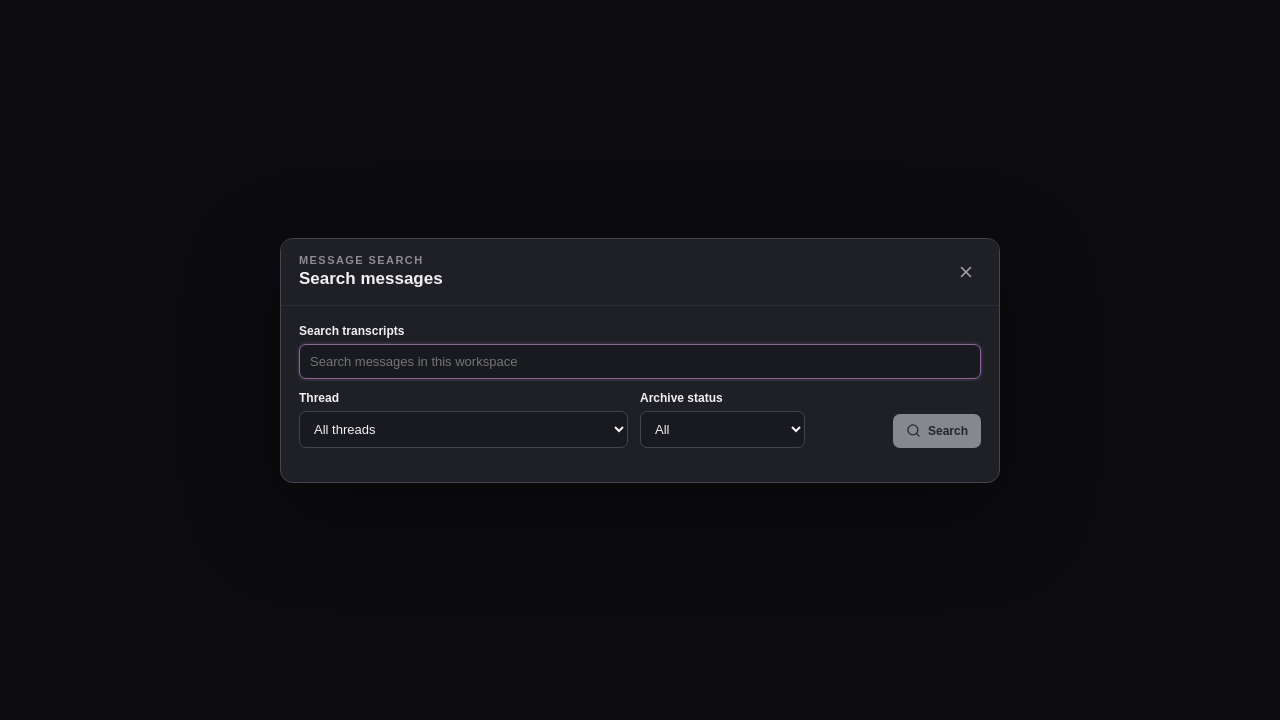
Test case: MessageSearchDialog › distinguishes complete no-results from partial scans
The image size is (1280, 720).
Step 1. Type "wire" into the search field → (640, 361), box [299, 344, 981, 378]
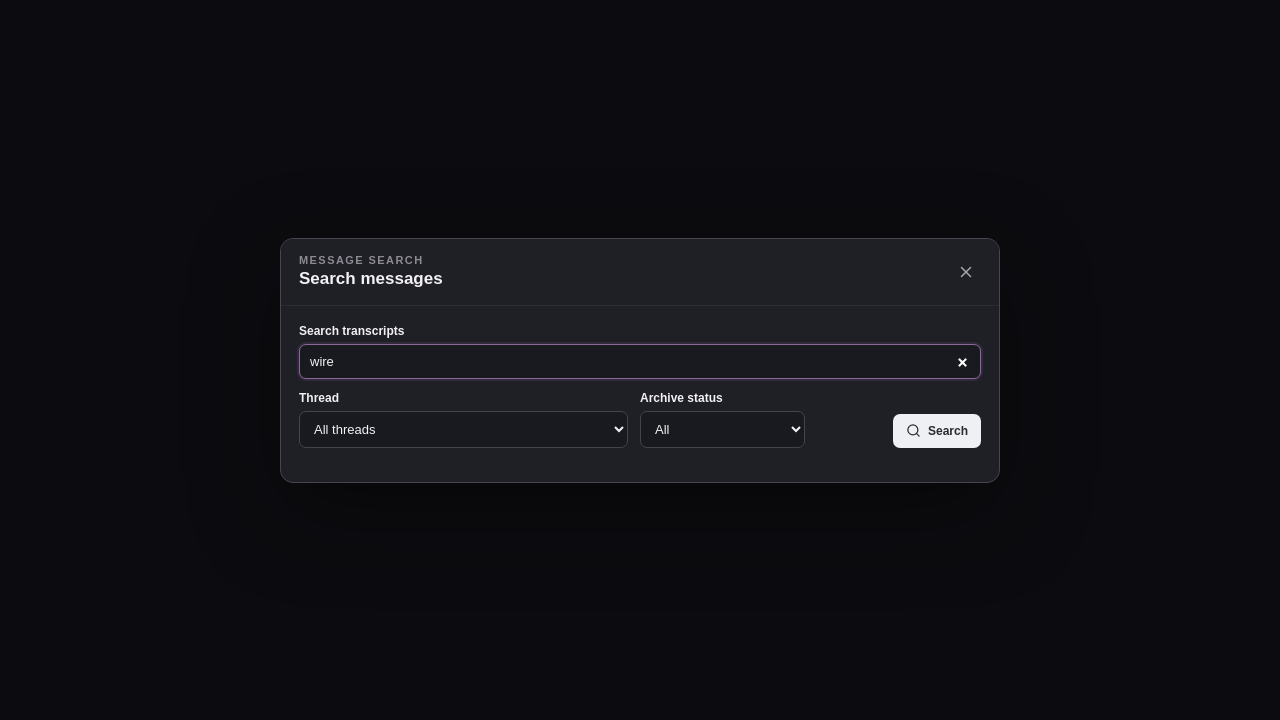
Step 2. Click the button "Search" → (937, 430), box [893, 414, 981, 448]
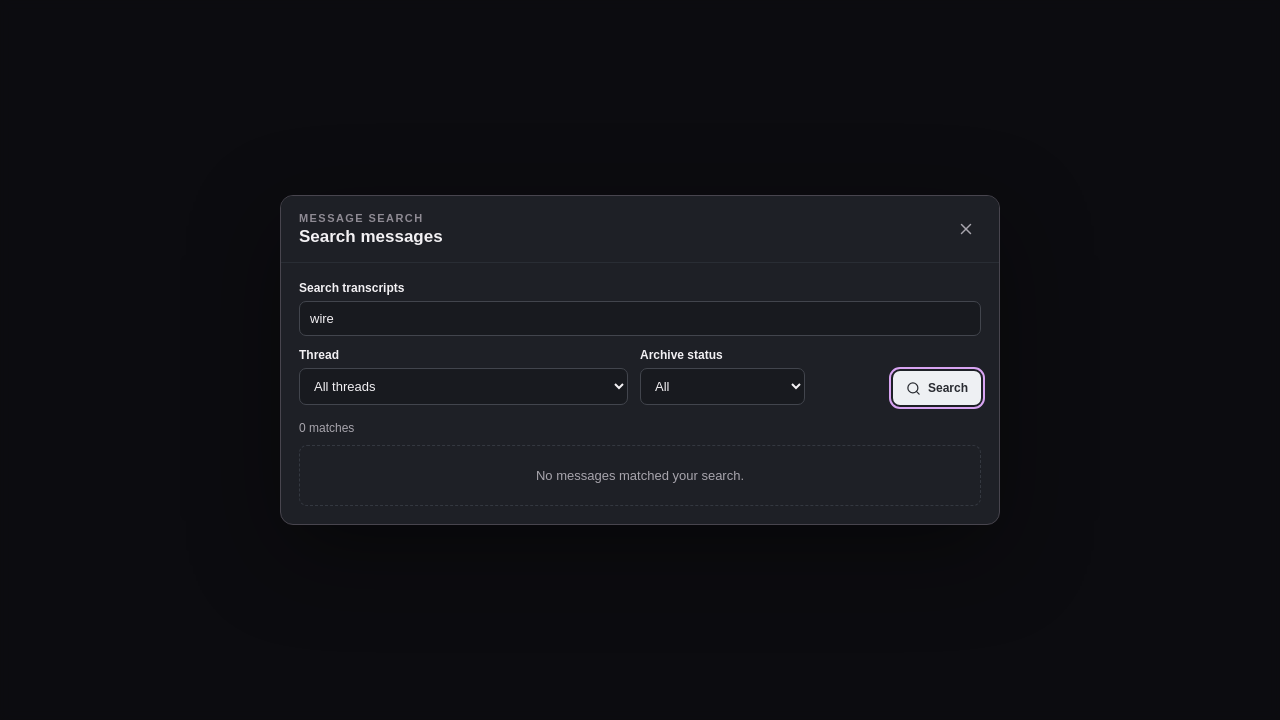
Result: the text "No messages matched your search." is shown at [299, 445, 981, 506]
Step 3. Type "2" into the search field → (640, 318), box [299, 301, 981, 336]
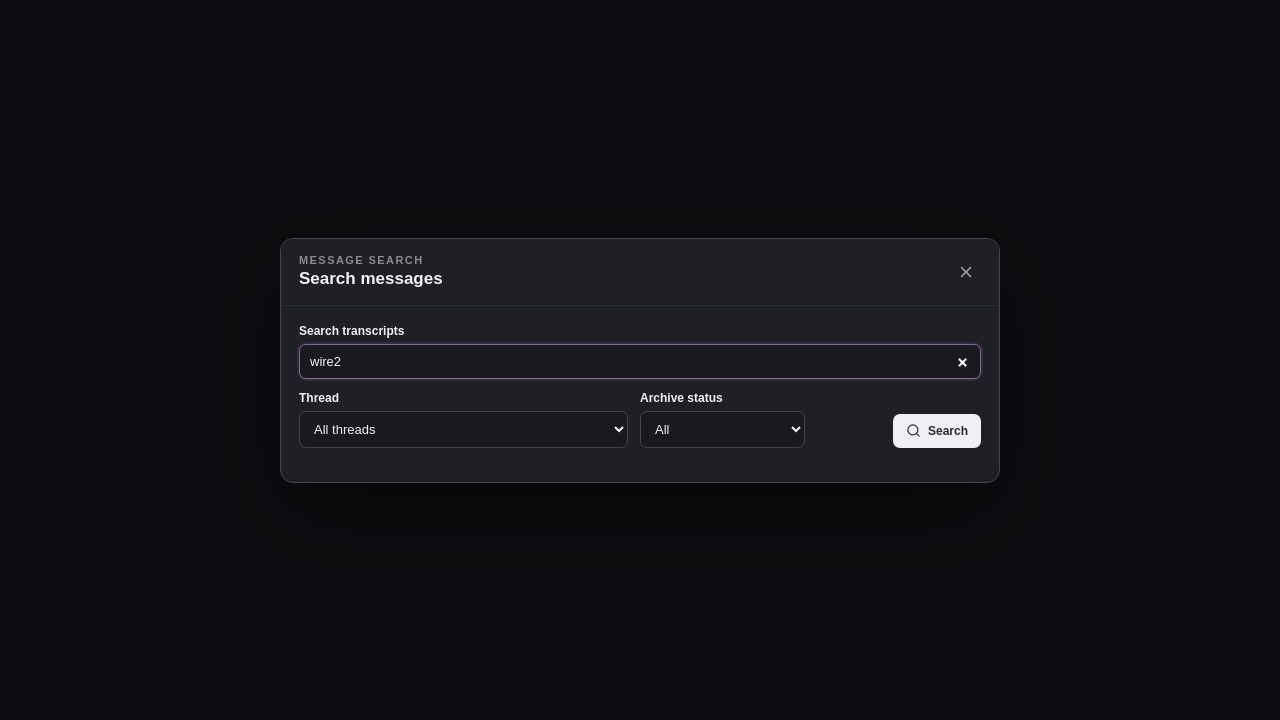
Step 4. Click the button "Search" → (937, 430), box [893, 414, 981, 448]
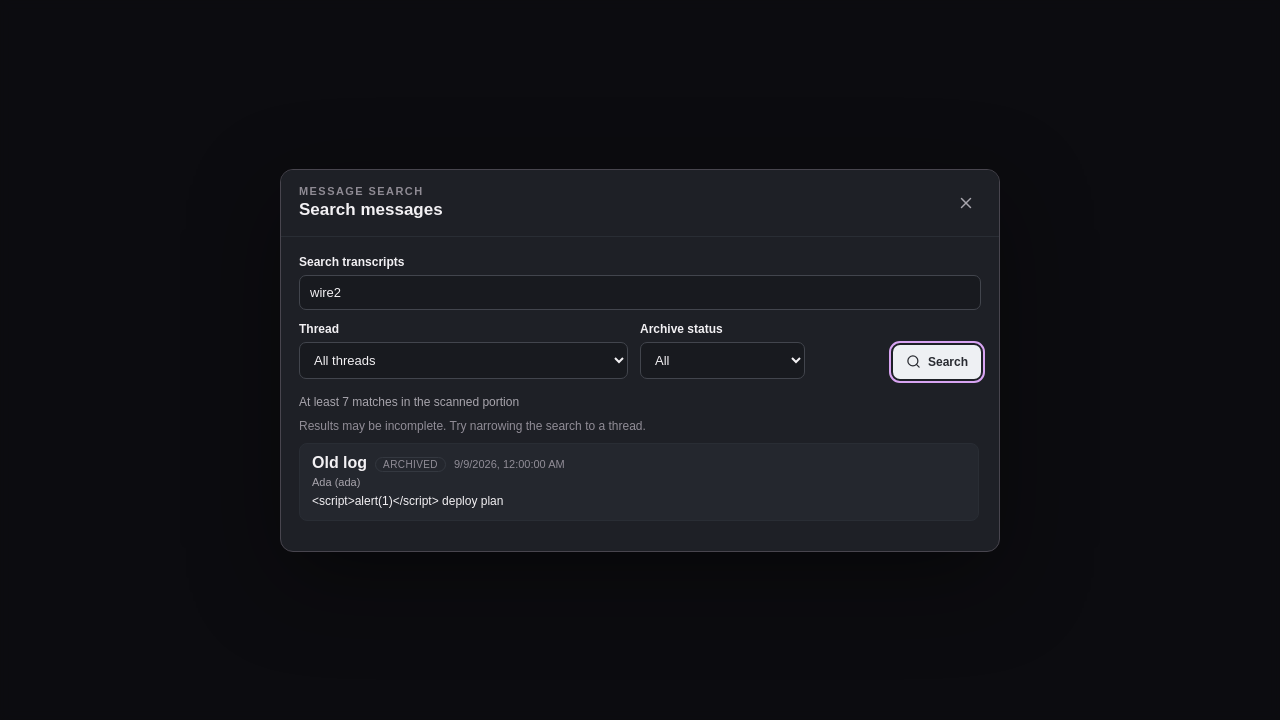
Expected: the text "No messages matched your search." is not shown
Result: the text "Results may be incomplete. Try narrowing the search to a thread." is shown at [299, 418, 646, 432]
Result: the text "At least 7 matches in the scanned portion" is shown at [299, 394, 519, 408]
